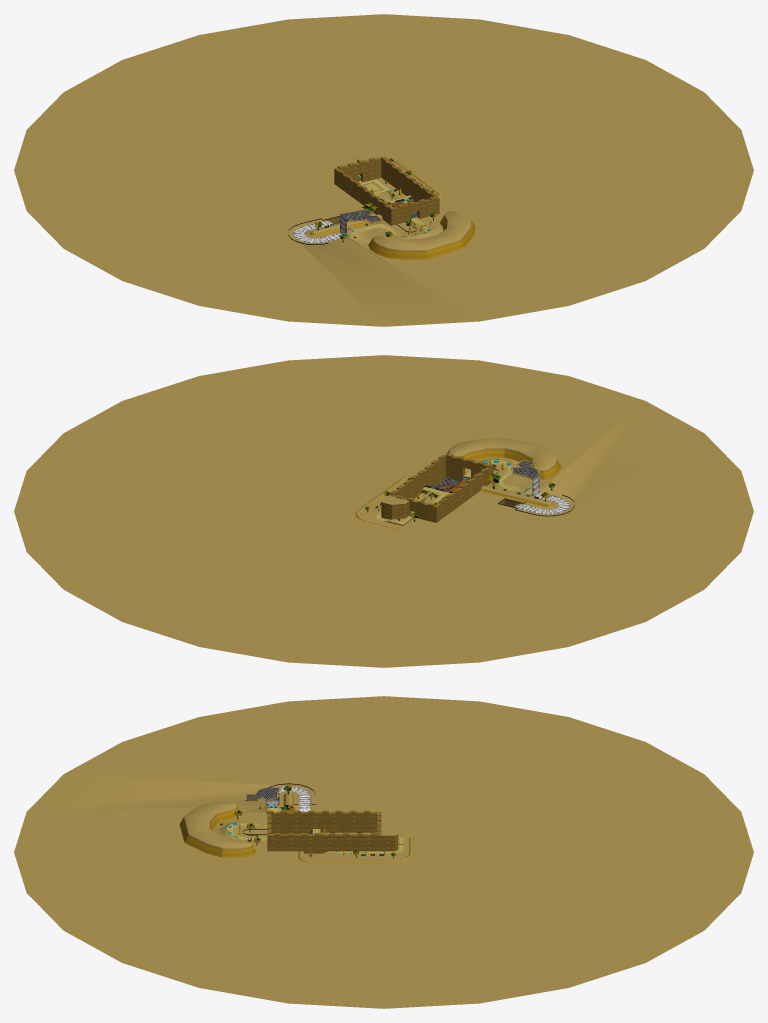
3 renders of one model, top to bottom at view 1: azimuth 30°, elevation 25°; view 2: azimuth 150°, elevation 25°; view 3: azimuth 270°, elevation 25°, orthographic.
Visible parts, largest first — view 1: model-SKP--Wood.004, model-SKP--Bricks, model-SKP--SandWall, model-SKP--Wood.003, model-SKP--Falls; view 2: model-SKP--Wood.004, model-SKP--Bricks, model-SKP--SandWall, model-SKP--Wood.003, model-SKP--Falls; view 3: model-SKP--Wood.004, model-SKP--Bricks, model-SKP--SandWall, model-SKP--Wood.003.
Part boxes in pixels (<box>): model-SKP--Wood.004: <box>14,14,753,326</box>; model-SKP--Bricks: <box>324,156,439,226</box>; model-SKP--SandWall: <box>310,159,475,259</box>; model-SKP--Wood.003: <box>351,174,430,236</box>; model-SKP--Falls: <box>293,215,346,243</box>; model-SKP--Wood.004: <box>14,355,753,667</box>; model-SKP--Bricks: <box>381,453,522,525</box>; model-SKP--SandWall: <box>355,448,561,529</box>; model-SKP--Wood.003: <box>375,460,528,524</box>; model-SKP--Falls: <box>514,474,569,514</box>; model-SKP--Wood.004: <box>14,696,753,1008</box>; model-SKP--Bricks: <box>266,810,398,853</box>; model-SKP--SandWall: <box>179,793,414,862</box>; model-SKP--Wood.003: <box>226,808,403,853</box>.
Size of the model in its own units: 436527 by 20739 by 436527.
20 materials, 20 textured.
